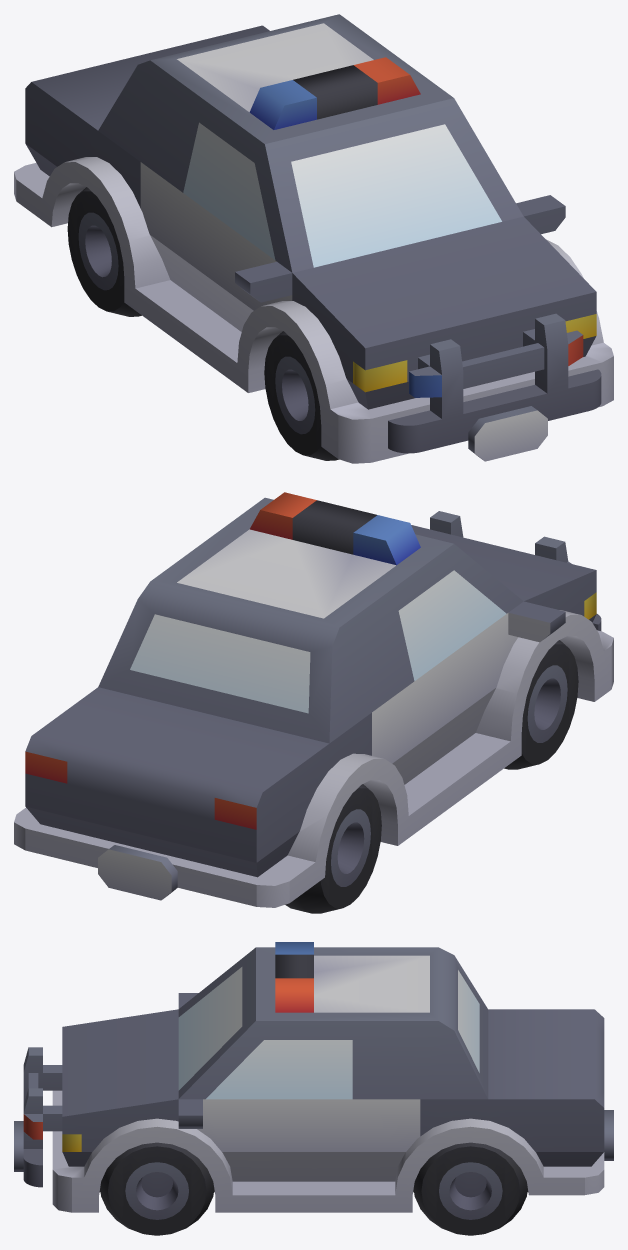
File: police.glb
3 renders of one model, top to bottom at view 1: azimuth 30°, elevation 25°; view 2: azimuth 150°, elevation 25°; view 3: azimuth 270°, elevation 25°, orthographic. The views are drawn at different scales.
Visible parts, largest first — view 1: body, grill, wheel-front-right, wheel-back-right; view 2: body, wheel-back-right, wheel-front-right, grill; view 3: body, wheel-back-left, wheel-front-left, grill.
Part boxes in pixels (<box>): body: <box>14,14,613,463</box>; grill: <box>388,313,601,461</box>; wheel-front-right: <box>264,331,339,460</box>; wheel-back-right: <box>67,187,141,316</box>; body: <box>14,492,613,907</box>; wheel-back-right: <box>285,784,381,913</box>; wheel-front-right: <box>504,640,578,769</box>; grill: <box>430,511,601,630</box>; body: <box>52,942,613,1212</box>; wheel-back-left: <box>413,1142,527,1235</box>; wheel-front-left: <box>100,1142,214,1235</box>; grill: <box>14,1047,62,1187</box>.
Size of the model in its own units: 1.5 by 1.3 by 3.1.
